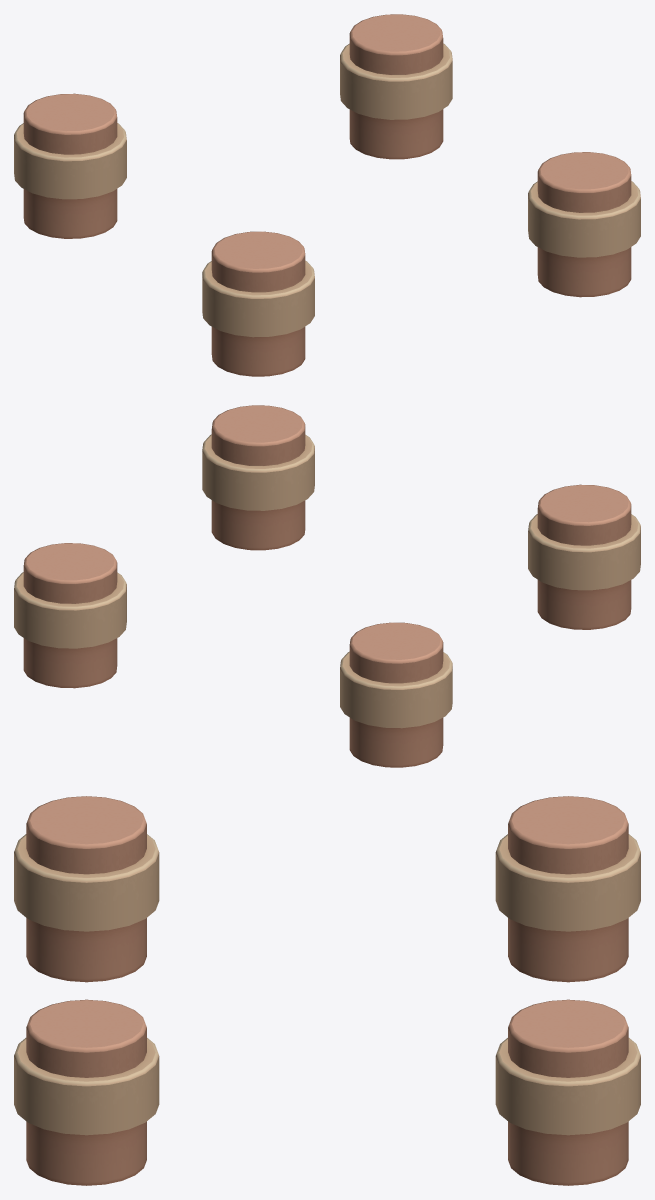
Rendered from Props.fbx.
The picture shows the model from 3 angles, top to bottom: view 1: azimuth 30°, elevation 25°; view 2: azimuth 150°, elevation 25°; view 3: azimuth 270°, elevation 25°; orthographic projection. The views are drawn at different scales.
Parts seen in each view (by area): view 1: Cylinder (3), Cylinder, Cylinder (1), Cylinder (2); view 2: Cylinder (2), Cylinder (1), Cylinder, Cylinder (3); view 3: Cylinder (2), Cylinder (3), Cylinder, Cylinder (1).
Boxes of the visible parts, x1,y1,x2,y2 form: Cylinder (3): (340, 14, 452, 159); Cylinder: (202, 231, 314, 376); Cylinder (1): (14, 93, 126, 238); Cylinder (2): (528, 152, 640, 297); Cylinder (2): (202, 405, 314, 550); Cylinder (1): (340, 622, 452, 767); Cylinder: (528, 484, 640, 629); Cylinder (3): (14, 543, 126, 688); Cylinder (2): (14, 999, 159, 1185); Cylinder (3): (495, 999, 640, 1185); Cylinder: (14, 796, 159, 982); Cylinder (1): (495, 796, 640, 982).
Bounding box in the file's own units: 20.82 × 5 × 20.82.
